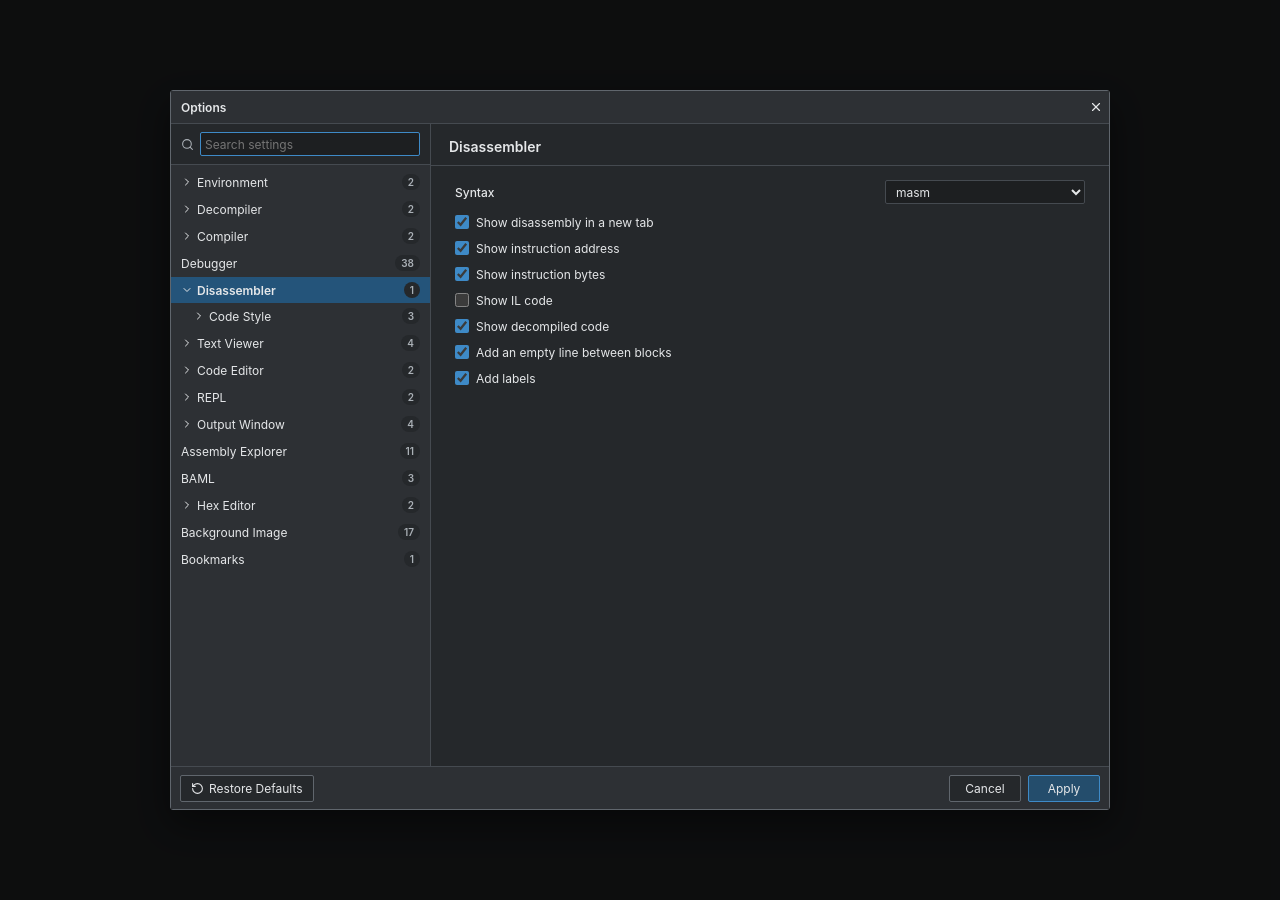
Test: OptionsDialog › shows the disassembler page and its nested code style pages
This screenshot has width=1280, height=900.
Check: the heading "Disassembler" is shown, box [449,138,541,155]
Check: the checkbox labelled "Show decompiled code" is checked, box [455,319,469,333]
What coordinates should you click on to do the following:
click the list item "Code Style 3"
I would click on:
 (300, 316)
Its box is [171,303,430,329].
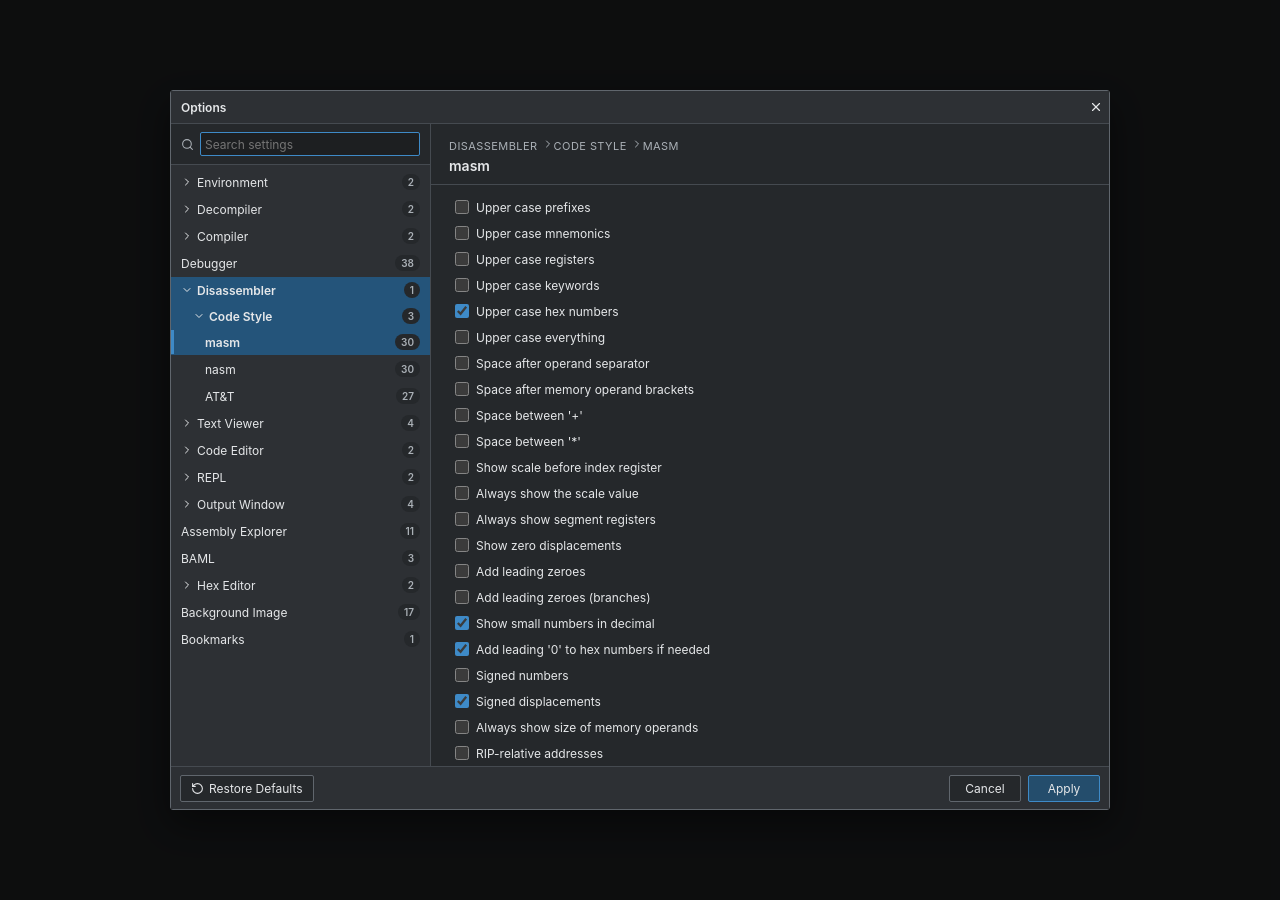
Check: the list item "masm 30" is shown, box [171,329,430,355]
Check: the list item "nasm 30" is shown, box [171,356,430,382]
Check: the list item "AT&T 27" is shown
What coordinates should you click on to do the following:
click the list item "AT&T 27"
I would click on:
 (300, 396)
Its box is [171,383,430,409].
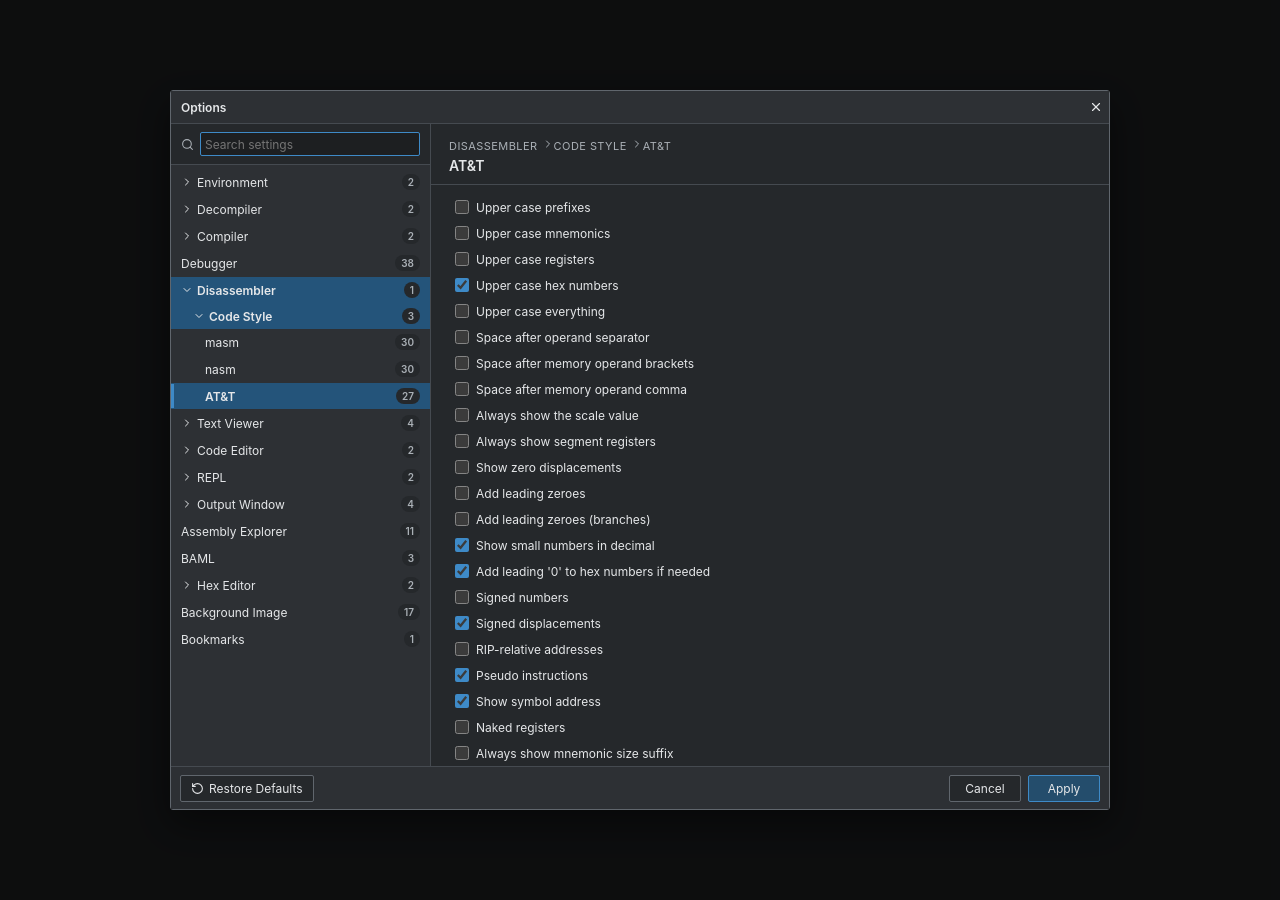
Check: the checkbox labelled "Naked registers" is shown, box [455,720,469,734]
Check: the text labelled "Upper case keywords" is gone
